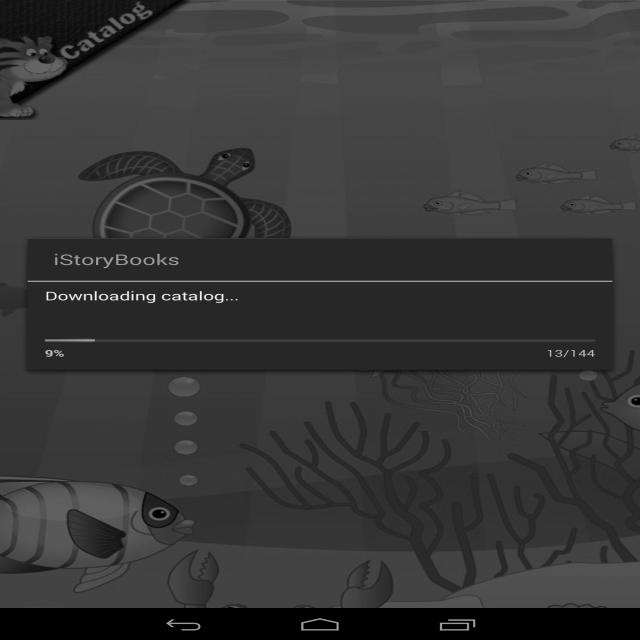ProgressBar: (36, 332, 602, 346)
TextView: (46, 287, 244, 309), (44, 250, 212, 271), (536, 344, 609, 361), (36, 346, 73, 362)
